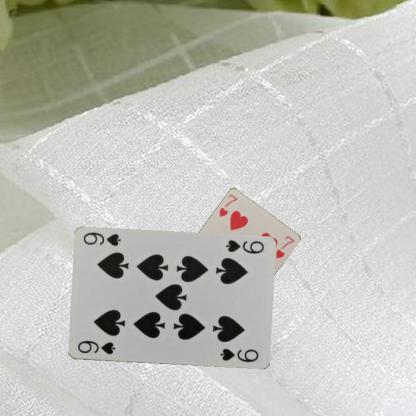7h: (216, 192, 238, 218)
9s: (223, 237, 266, 256), (75, 338, 116, 356)
